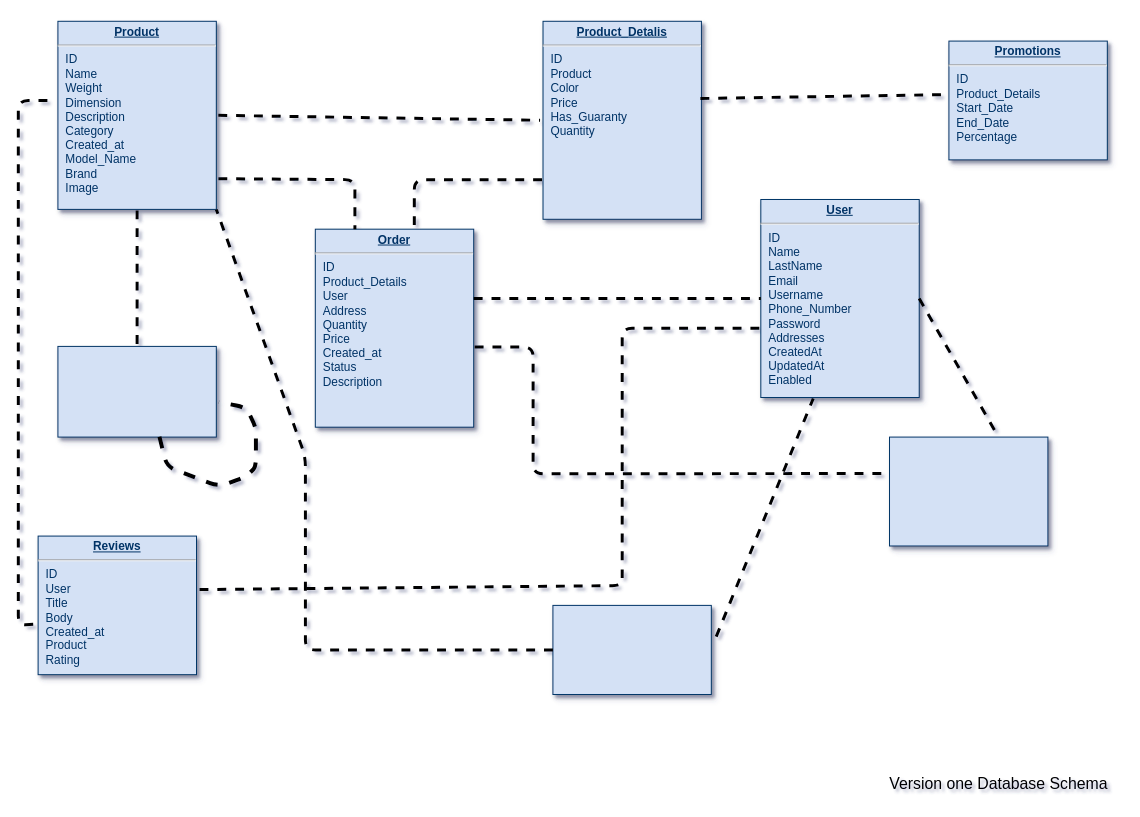
Image size: 1140x817. Some labels were removed from this diagram. The shapes that lost their labels are listed below. From the top down, each one's centre as x and y in pixels, then its label:
At [137,392]: "Category ID Name Parent = Category".
At [969,492]: "Address ID User Full_Address Is_Personal".
At [632,650]: "Favorites ID User Product".
